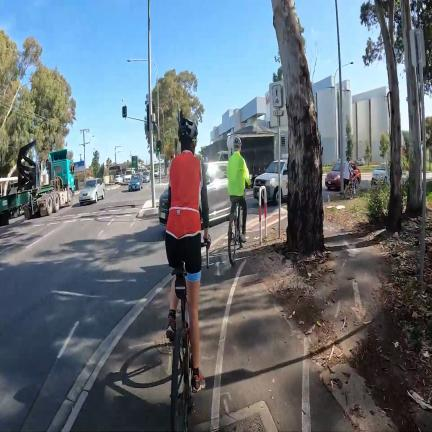Bike_Lane: (309, 224, 394, 432), (72, 287, 172, 430), (197, 254, 239, 422)
Bike_Sign: (272, 84, 282, 108)
